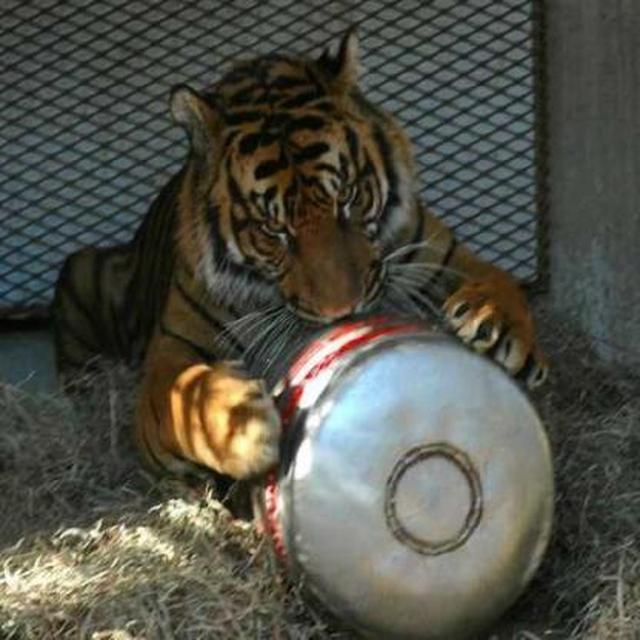tiger: (49, 20, 550, 495)
